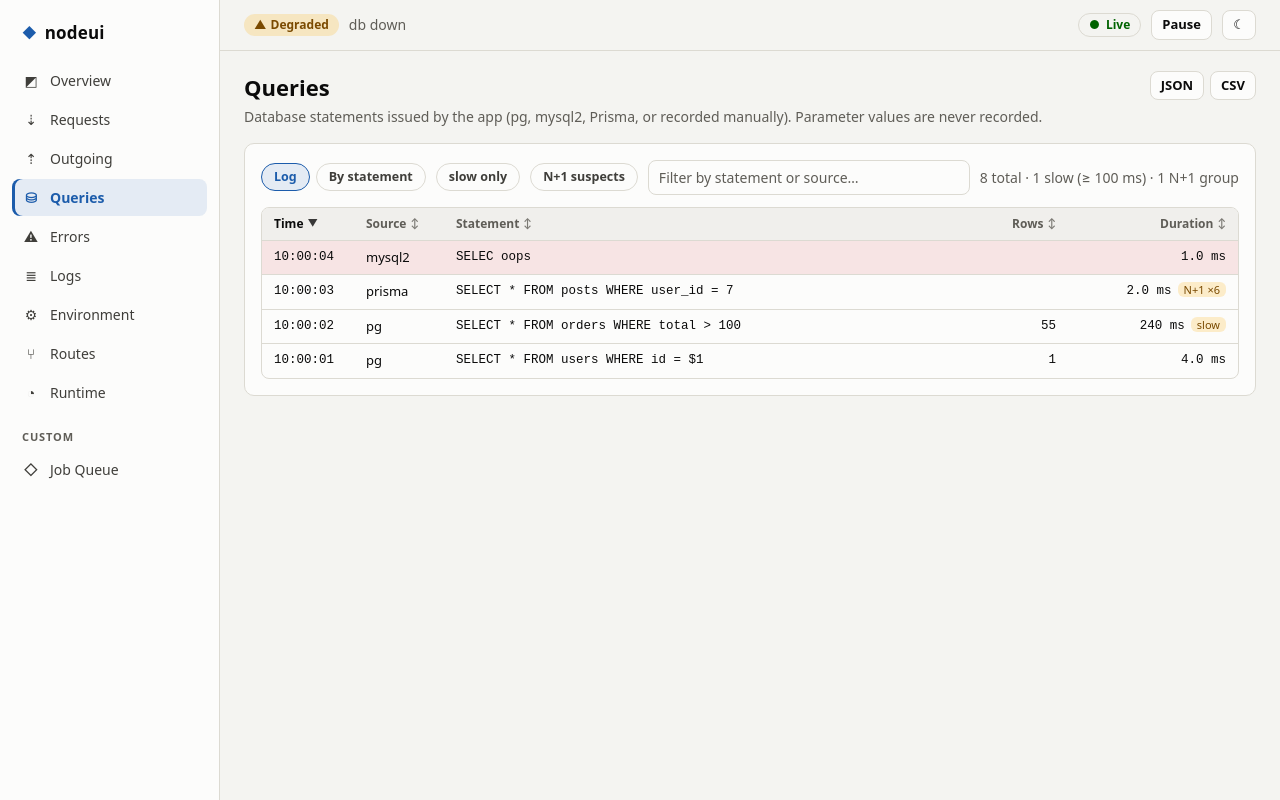
Test: Queries by statement › aggregates by statement with share of total time and flags
Click the button "By statement" at (371, 177), box [316,163,426,191]
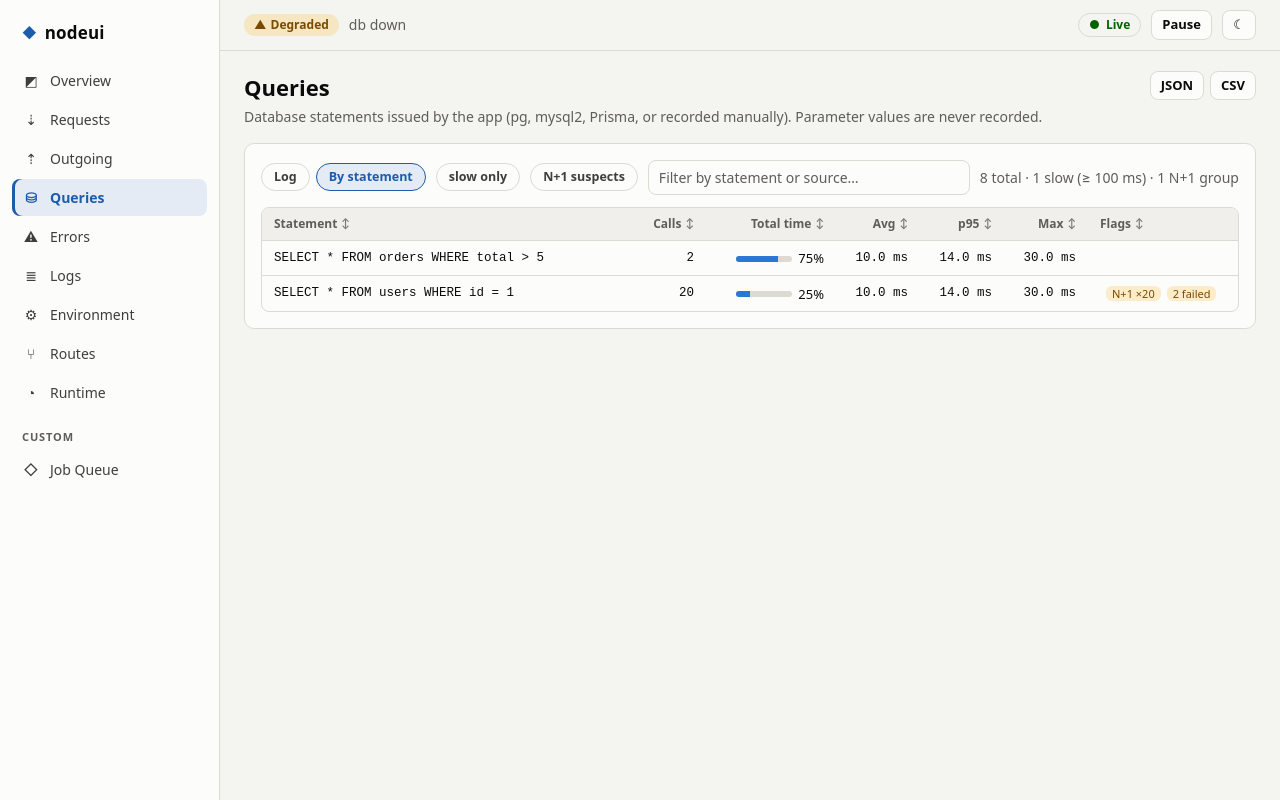
expect the row that starts with "SELECT * FROM orders WHERE total > 5" is shown: met, box [274,250,544,264]
expect the row that starts with "SELECT * FROM orders WHERE total > 5" shows "75%": met, box [798,249,824,267]
expect the row that starts with "SELECT * FROM users WHERE id = 1" shows "N+1 ×20": met, box [262,276,1238,311]
Click the button "N+1 suspects" at (584, 177), box [530,163,638,191]
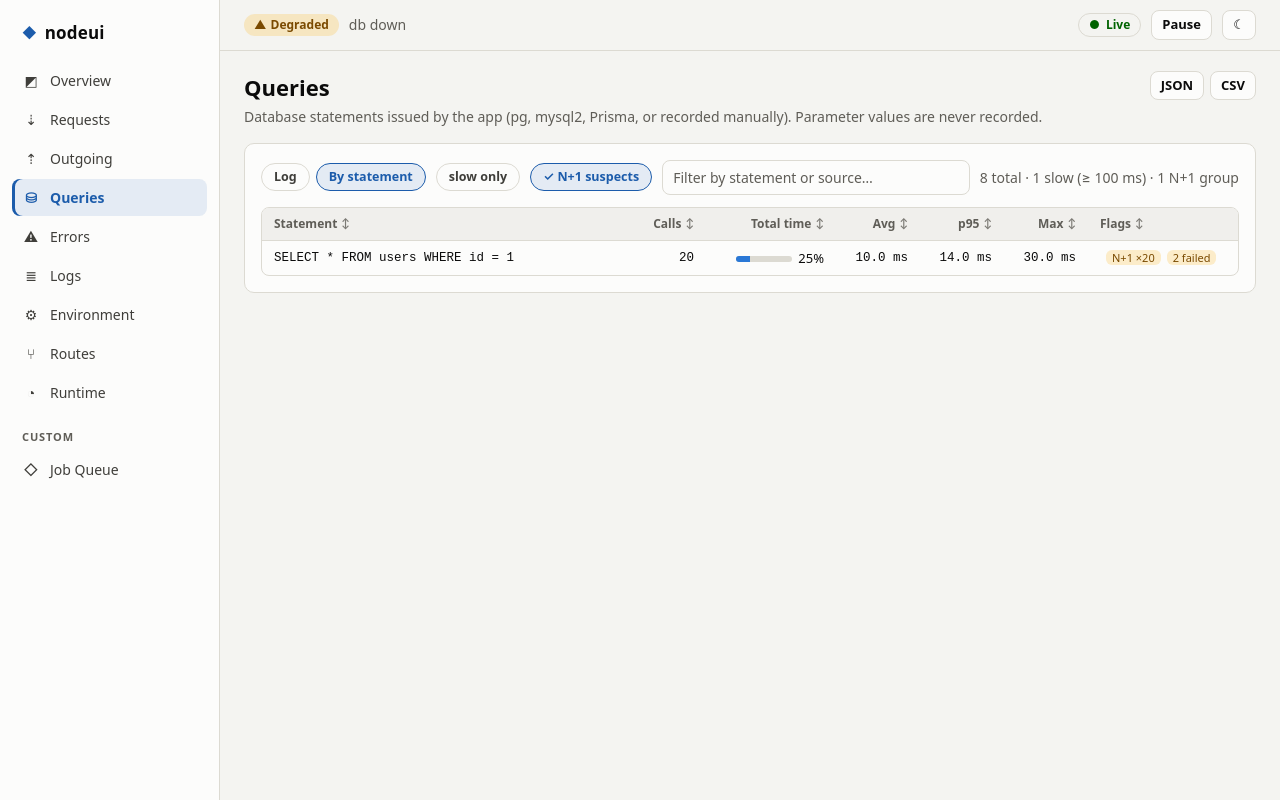
expect the text "FROM orders" is gone: met
